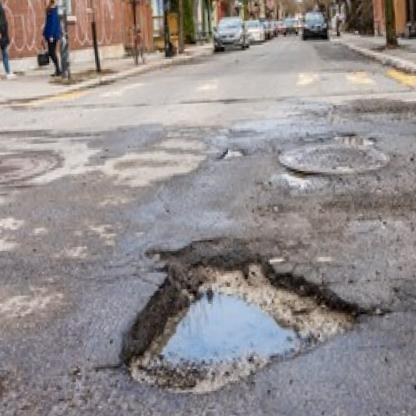pothole: (129, 254, 367, 380)
